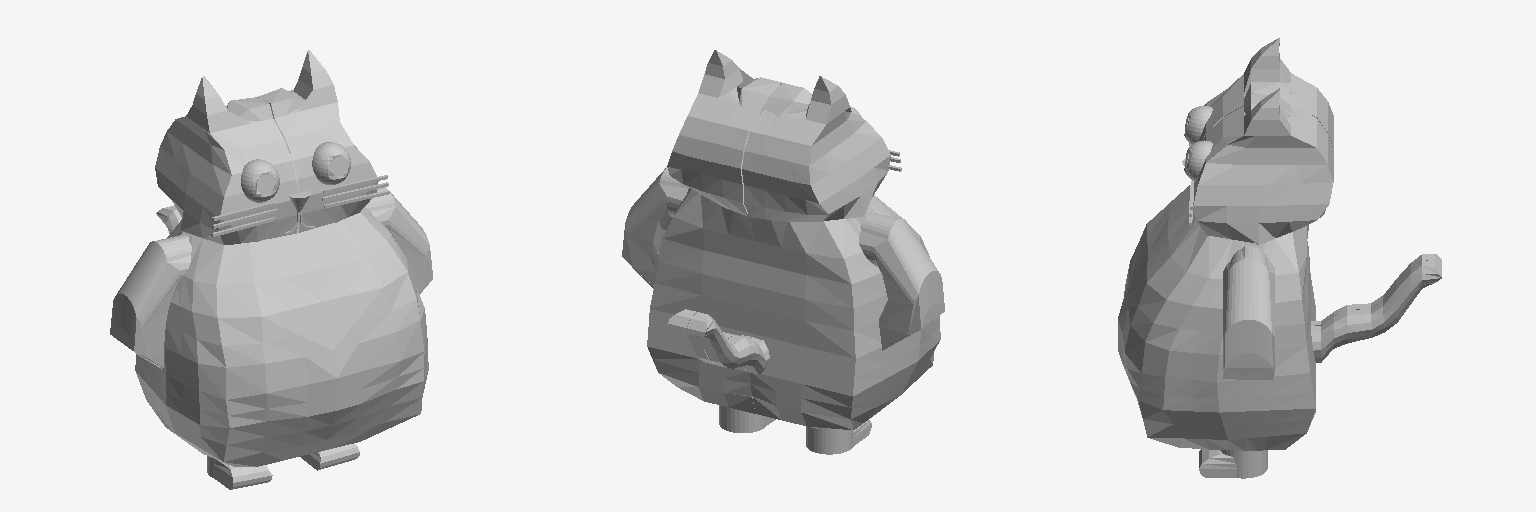
The model's file is gato.obj.
3 renders of one model, left to right at view 1: azimuth 30°, elevation 25°; view 2: azimuth 150°, elevation 25°; view 3: azimuth 270°, elevation 25°, orthographic.
Visible parts, largest first — view 1: Gato_Cube; view 2: Gato_Cube; view 3: Gato_Cube.
Boxes of the visible parts, x1=… form: Gato_Cube: x1=110, y1=50, x2=432, y2=489; Gato_Cube: x1=622, y1=50, x2=944, y2=454; Gato_Cube: x1=1118, y1=38, x2=1441, y2=478.
Bounding box in the file's own units: 1.39 × 1.72 × 1.31.